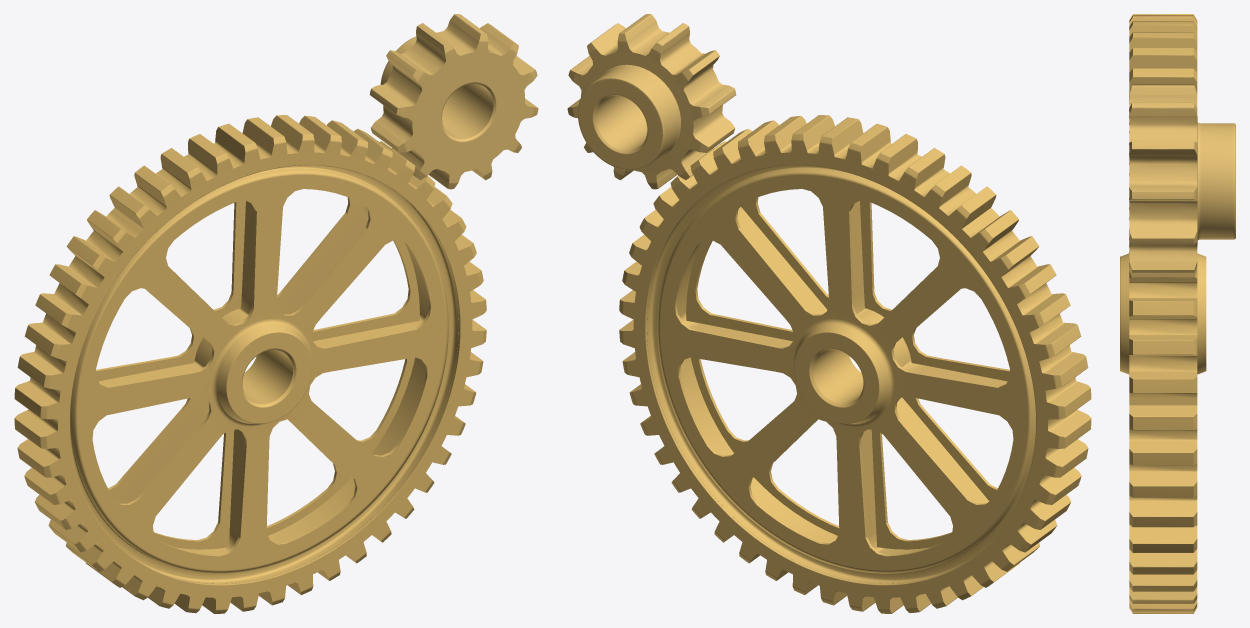
The model's file is gears.glb.
3 renders of one model, left to right at view 1: azimuth 30°, elevation 25°; view 2: azimuth 150°, elevation 25°; view 3: azimuth 270°, elevation 25°, orthographic. The views are drawn at different scales.
Visible parts, largest first — view 1: part2, part1; view 2: part2, part1; view 3: part2, part1.
Boxes of the visible parts, x1,y1,x2,y2 form: part2: (14,115,486,613); part1: (369,14,538,189); part2: (619,115,1091,613); part1: (567,14,736,189); part2: (1120,14,1206,613); part1: (1129,84,1235,278).
Bounding box in the file's own units: 79.93 × 79.96 × 13.85.
